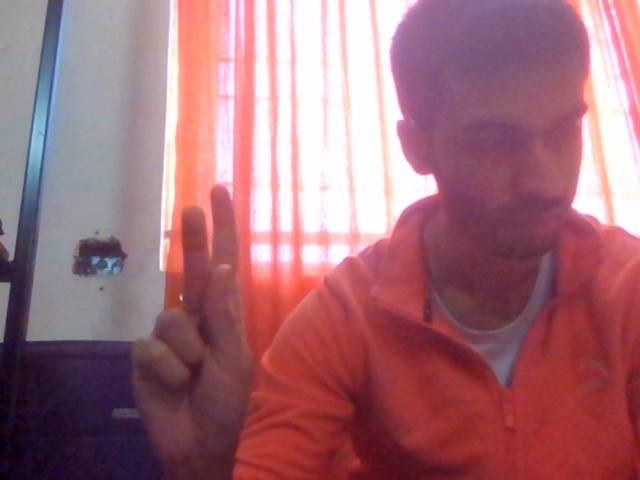K: (101, 181, 328, 480)
